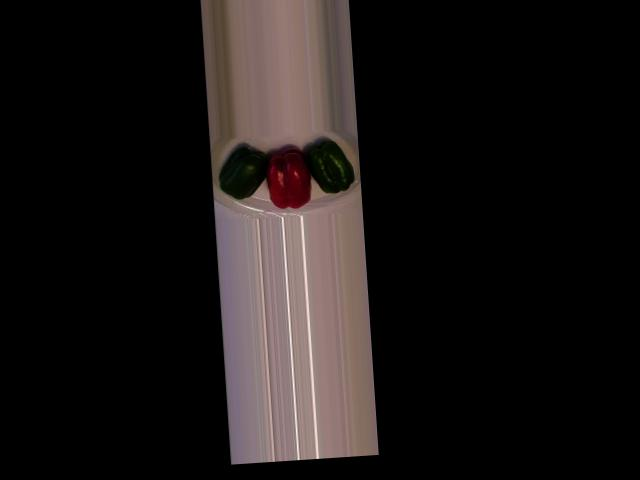bell_pepper: (213, 140, 270, 207)
